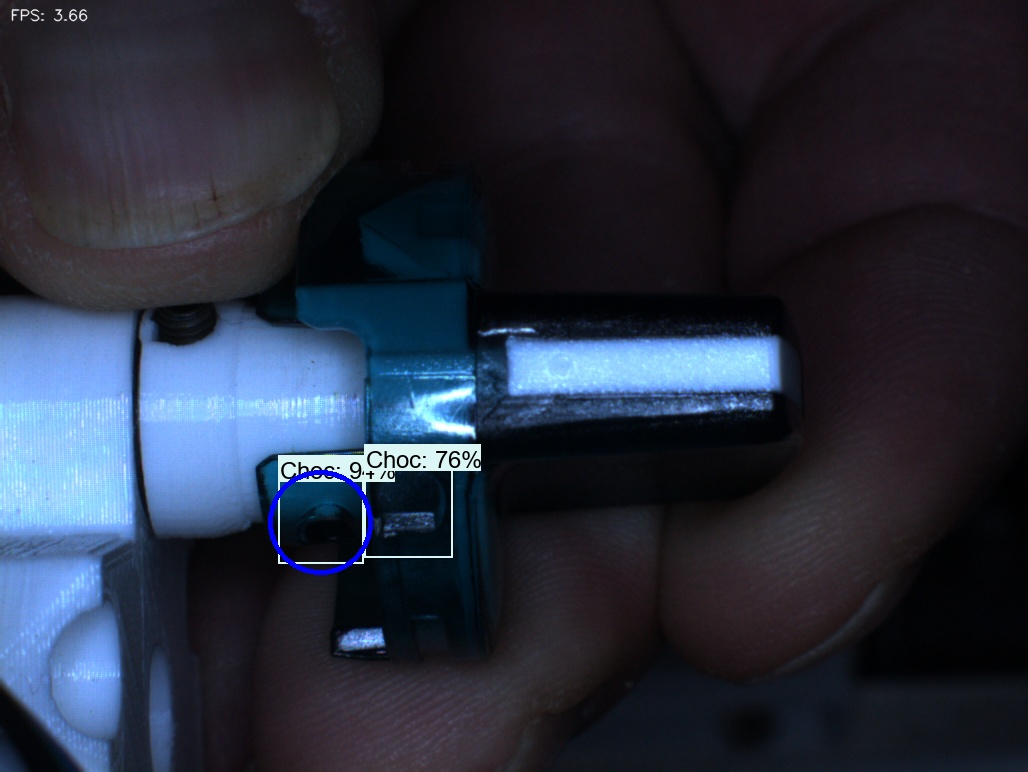DentOk: (327, 185, 402, 281)
